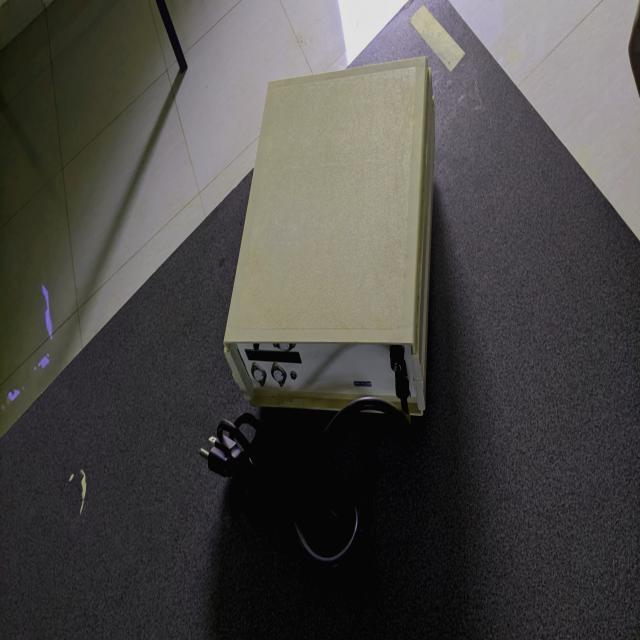Freefall Digital Timer: (223, 50, 438, 454)
